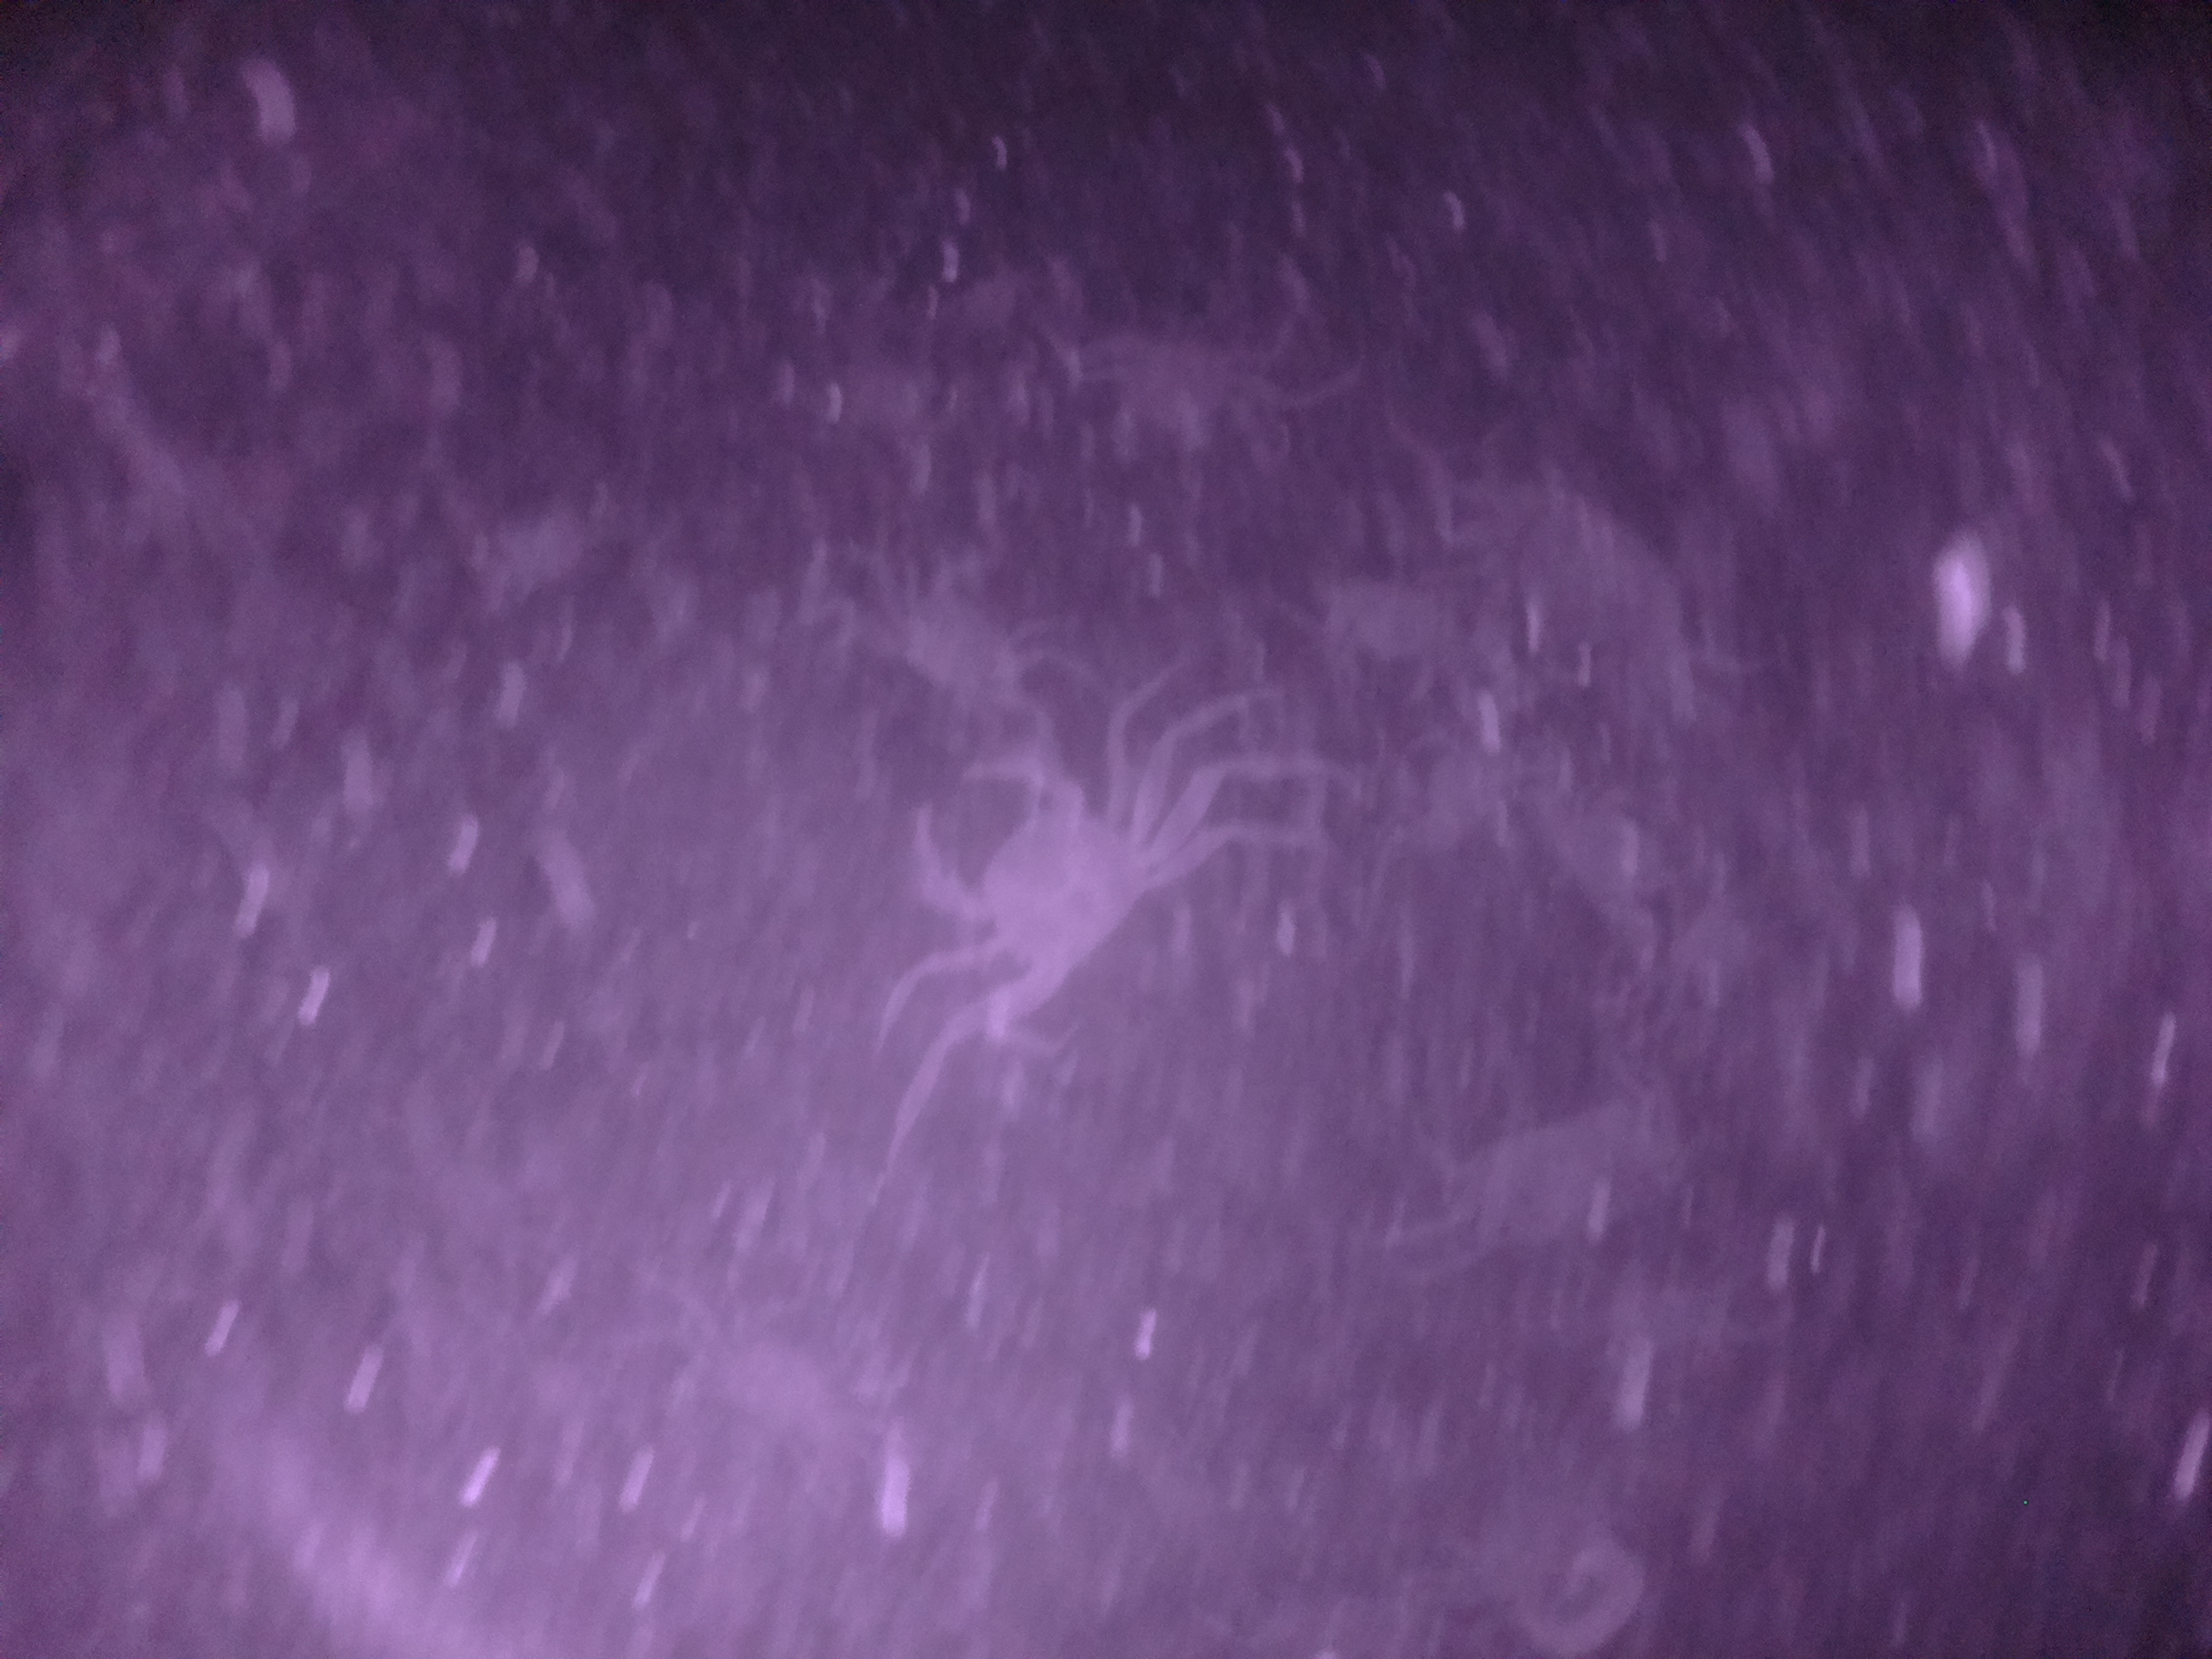Crab: (883, 718, 1205, 1016)
